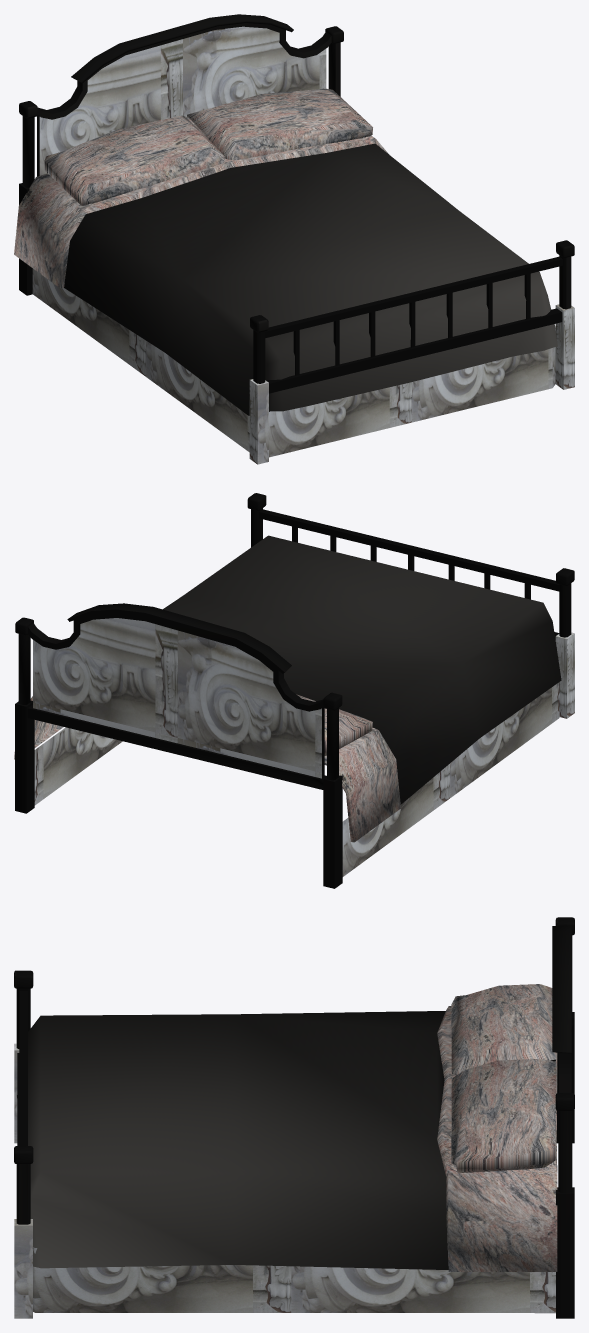
File: Prop_Bed.FBX
3 renders of one model, top to bottom at view 1: azimuth 30°, elevation 25°; view 2: azimuth 150°, elevation 25°; view 3: azimuth 270°, elevation 25°, orthographic. The views are drawn at different scales.
Parts seen in each view (by area): view 1: Prop_Bed; view 2: Prop_Bed; view 3: Prop_Bed.
Part boxes in pixels (left/top/right/bottom): Prop_Bed: left=14, top=14, right=574, bottom=464; Prop_Bed: left=14, top=493, right=574, bottom=888; Prop_Bed: left=14, top=917, right=574, bottom=1318.
Bounding box in the file's own units: 2.03 × 1.3 × 2.48.
